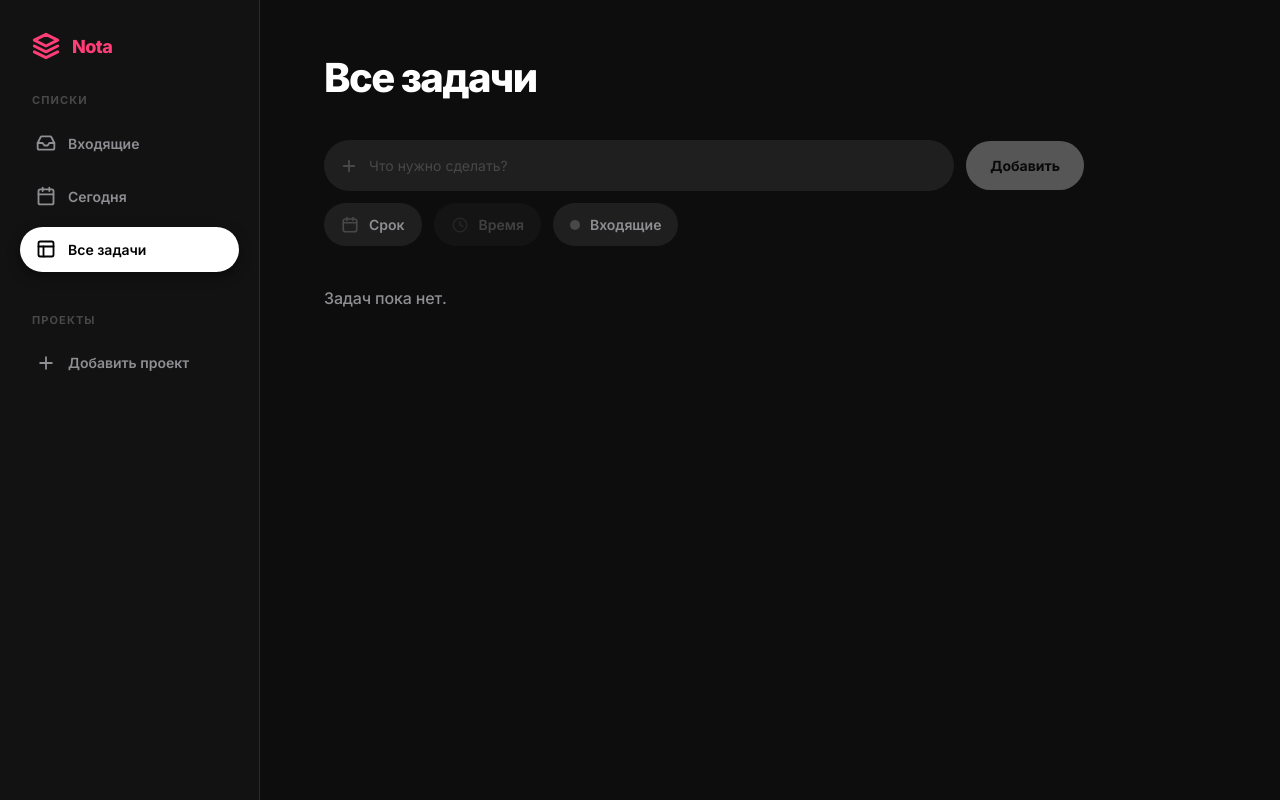
Test: форма добавления задачи › не даёт задать время, пока не выбрана дата
Expected: the text "Задач пока нет." is shown, x1=324 y1=288 x2=447 y2=308
Expected: the button with aria-label "Время срока" is disabled, x1=434 y1=203 x2=541 y2=246
Click the button with aria-label "Дата срока" at x=373, y=224, box x1=324 y1=203 x2=422 y2=246
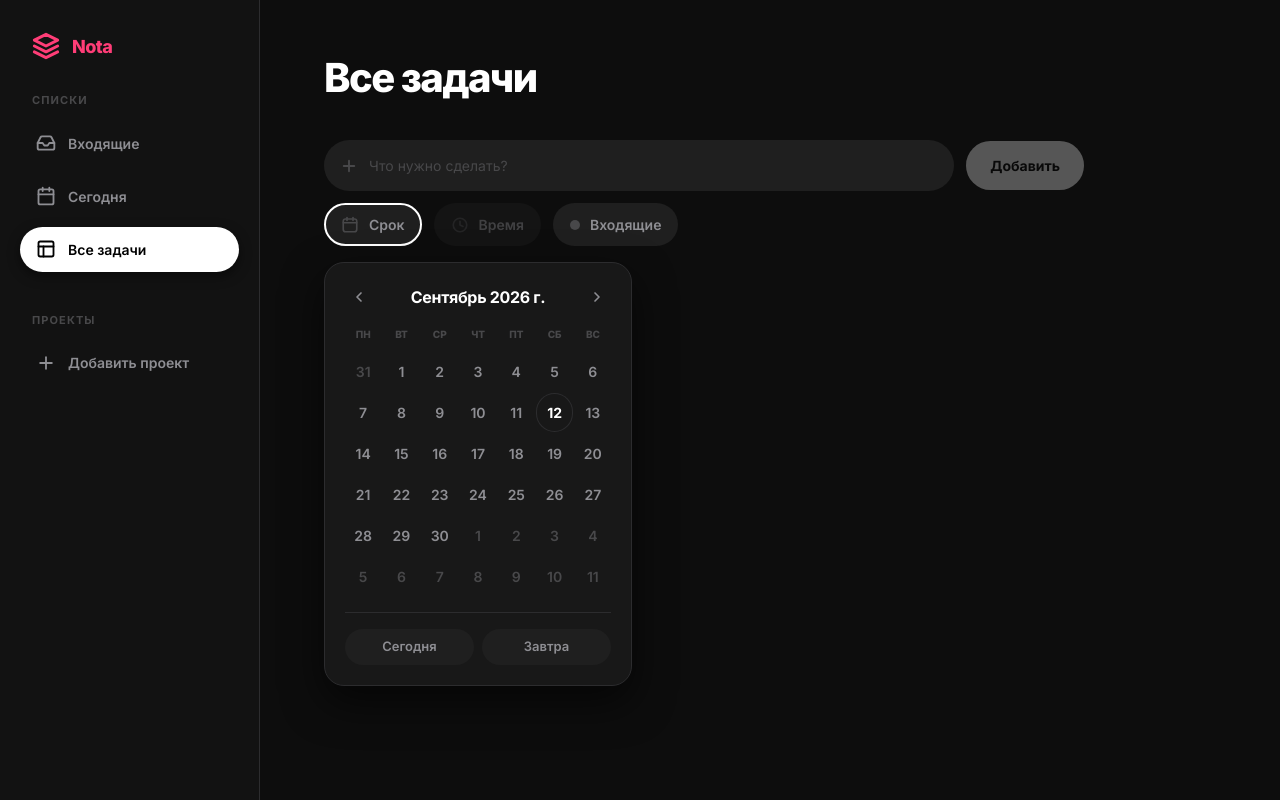
Click the button named "20 сентября 2026" at x=593, y=454, box x1=575 y1=434 x2=611 y2=473
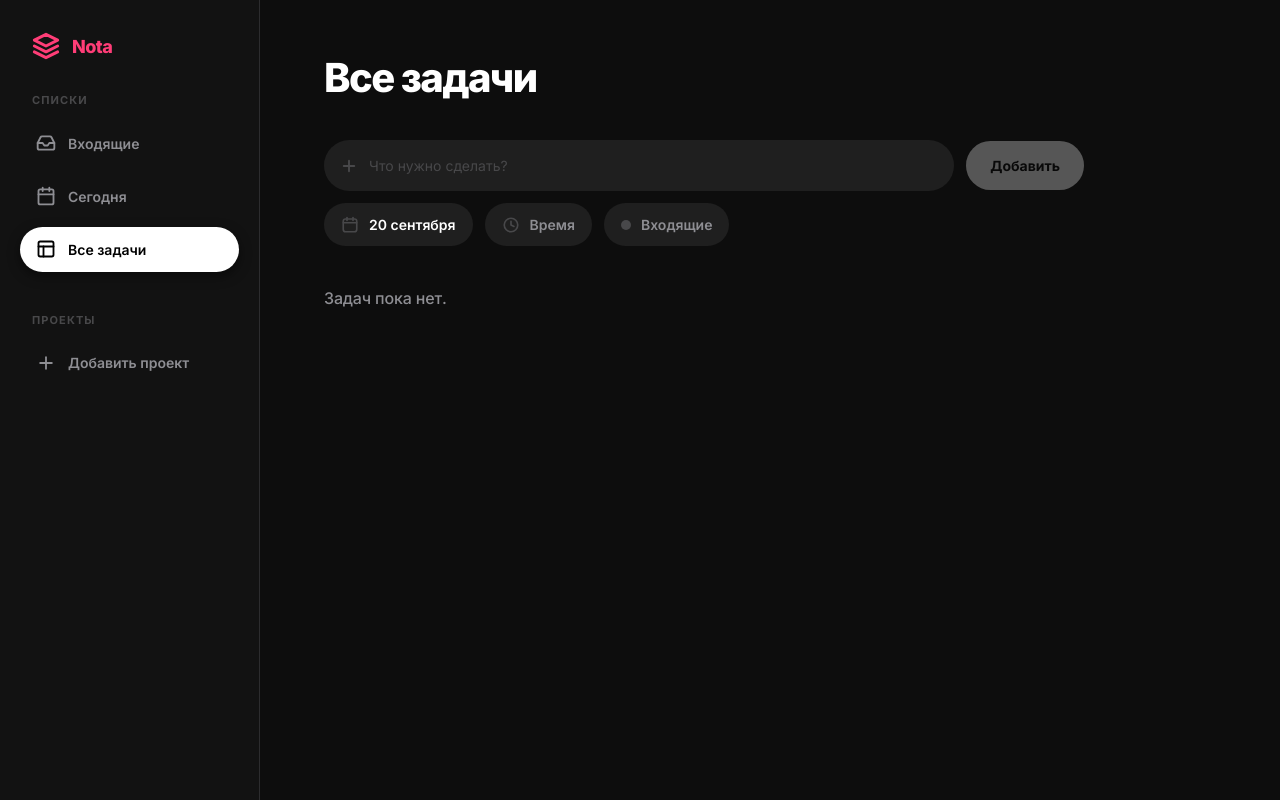
Expected: the button with aria-label "Время срока" is enabled, x1=485 y1=203 x2=592 y2=246
